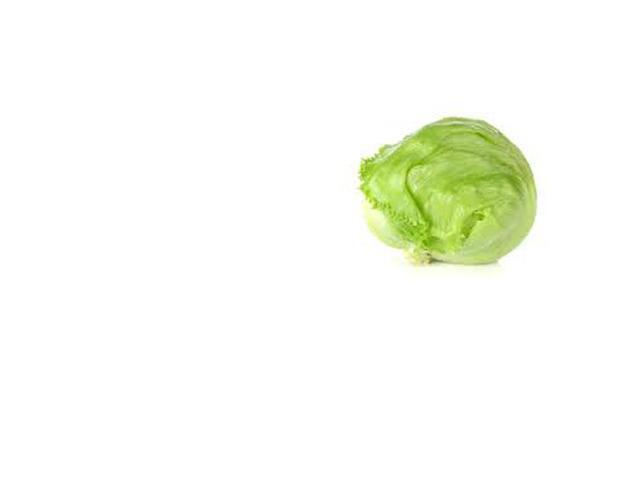lettuce: (408, 45, 522, 257)
